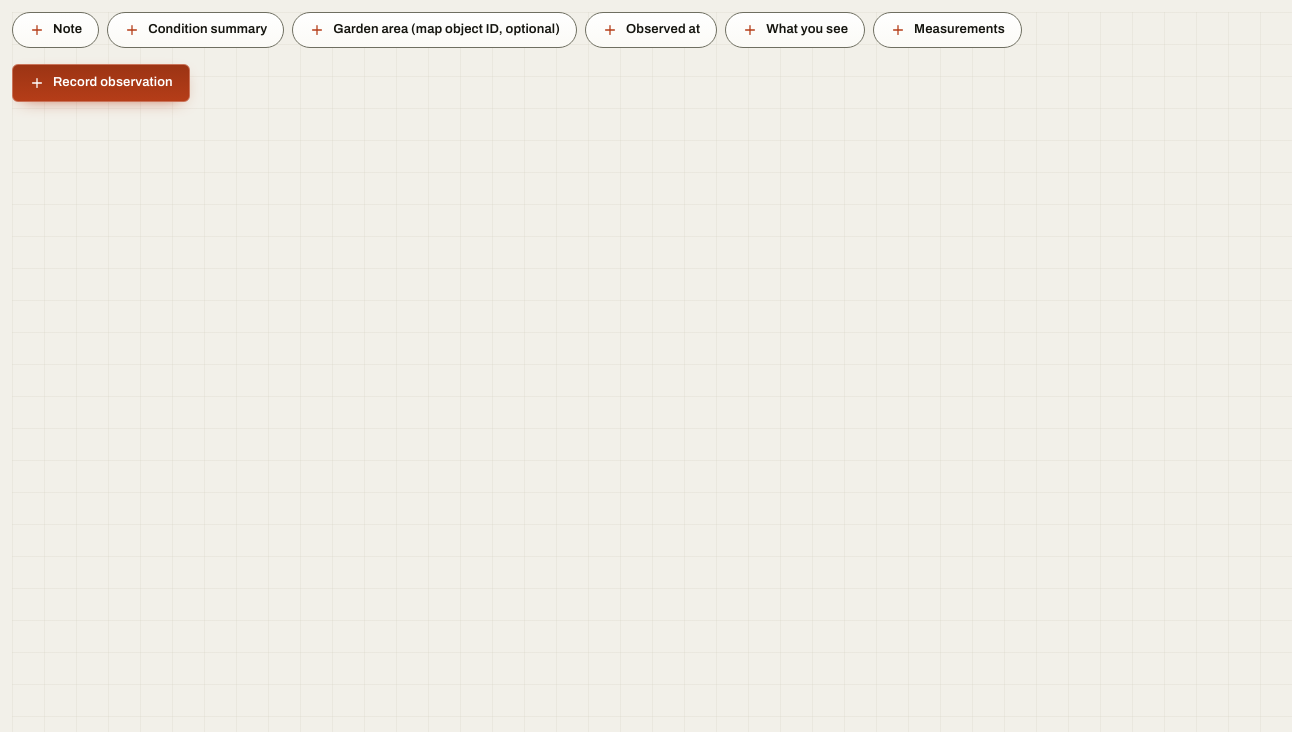
Test: RecordObservationForm › refuses an entry with no note, no summary, and no photograph
The image size is (1292, 732).
Step 1. Click the button "Record observation" → (101, 83), box [12,64,190,102]
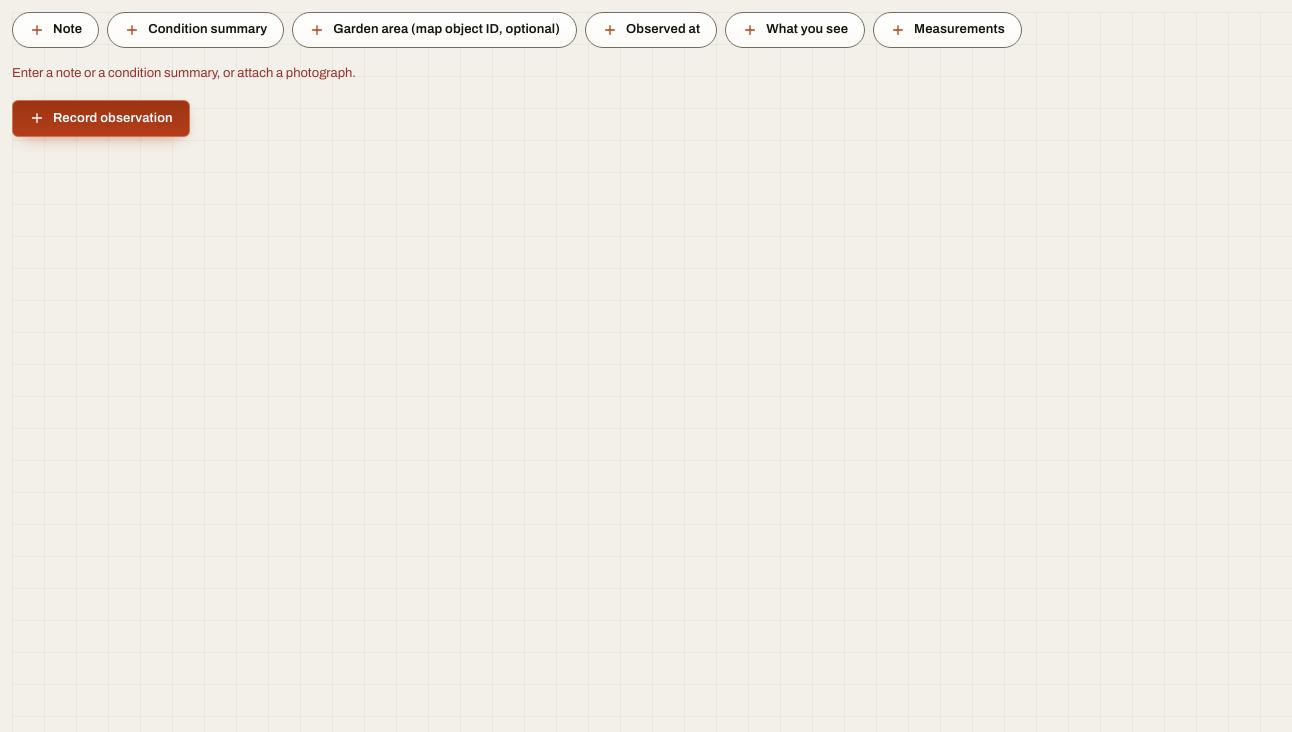
Check: the text "Enter a note or a condition summary, or attach a photograph." is shown, box [12,66,356,80]
